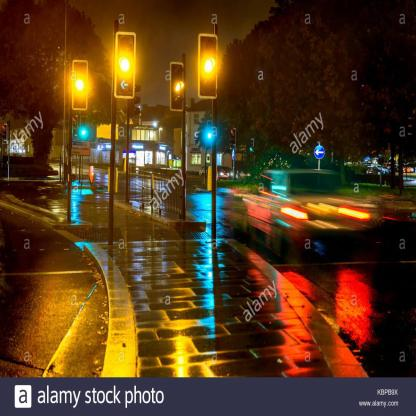other: (274, 252, 392, 354), (273, 188, 379, 231), (109, 30, 140, 88), (188, 47, 224, 93), (68, 54, 94, 114)
